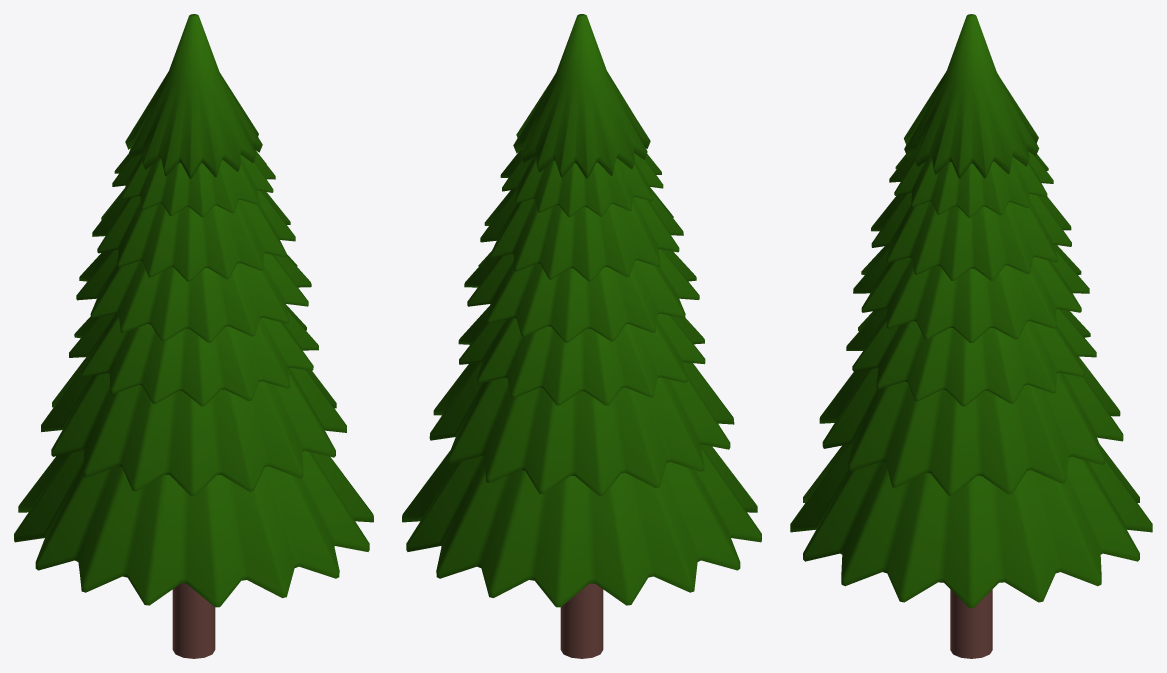
Rendered from Pine1HP.fbx.
3 views of the same model, side by side, from view 1: azimuth 30°, elevation 25°; view 2: azimuth 150°, elevation 25°; view 3: azimuth 270°, elevation 25° (orthographic).
Visible parts, largest first — view 1: Pine1UHP.001; view 2: Pine1UHP.001; view 3: Pine1UHP.001.
Boxes of the visible parts, x1,y1,x2,y2 form: Pine1UHP.001: (14,14,373,658); Pine1UHP.001: (402,14,761,658); Pine1UHP.001: (790,14,1152,658).
Bounding box in the file's own units: 193 × 373 × 193.
